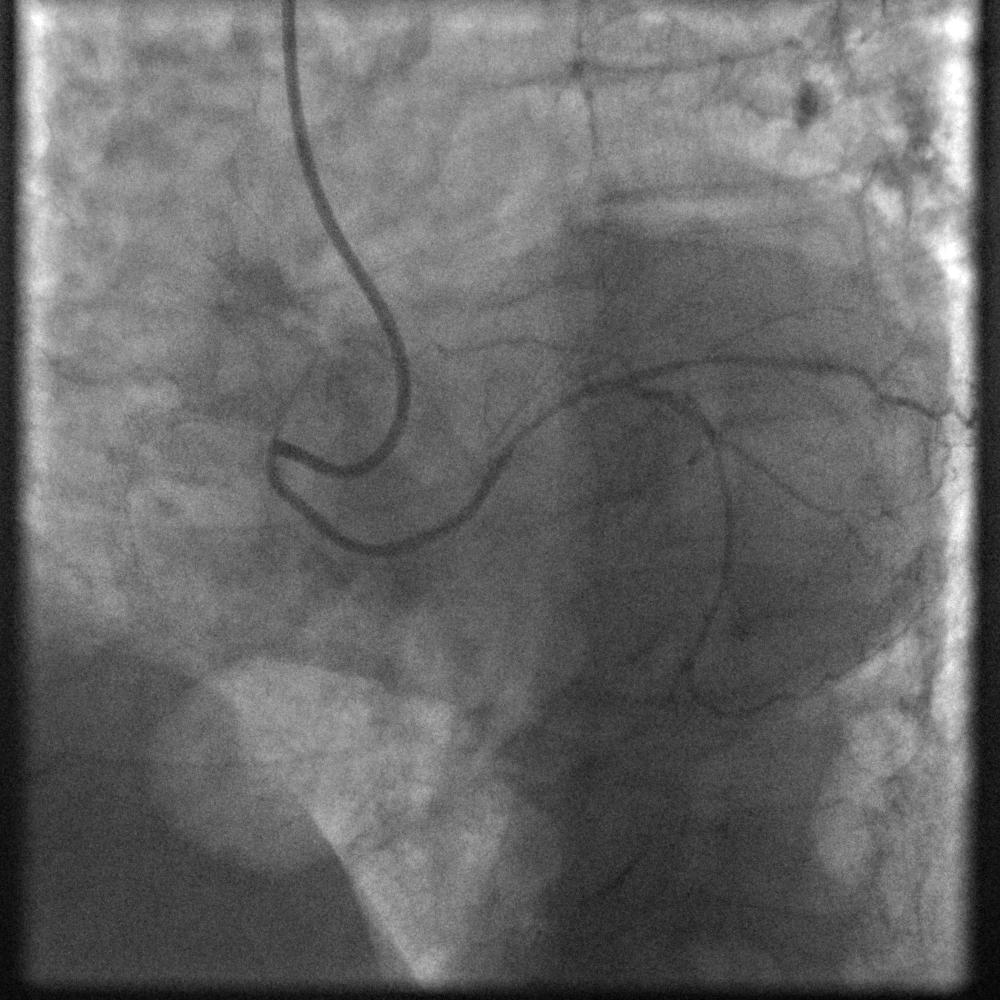Stenosis: (513, 397, 571, 448)
